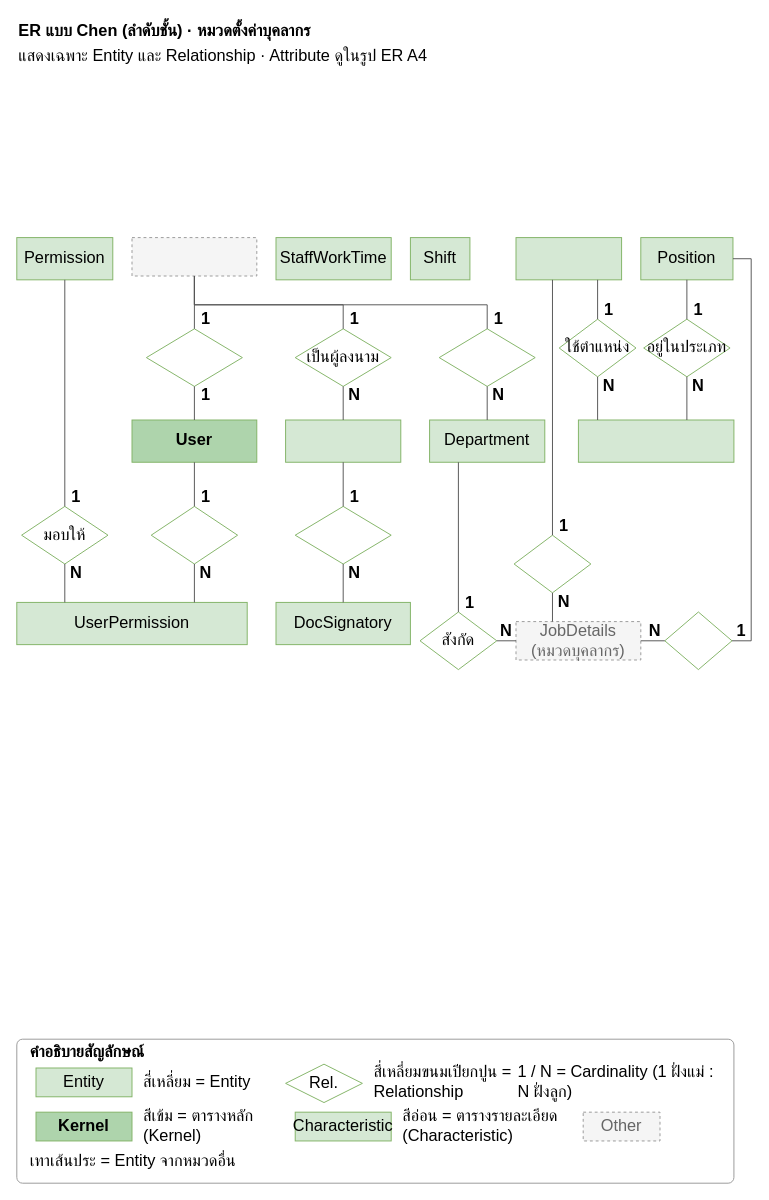
This 769x1200 diagram has some shape labels left out. The shapes that lost their labels are listed below. From the top down, each one's box as (x1, y1, x2, y2) in pixels, then its label:
(131, 237, 257, 276): Employees (หมวดบุคลากร)
(515, 237, 622, 280): StaffType
(145, 328, 242, 386): มีบัญชี
(438, 328, 535, 386): เป็นหัวหน้า
(285, 419, 401, 462): Signatory
(577, 419, 734, 462): PositionStaffType
(150, 505, 238, 564): ได้รับสิทธิ์
(294, 505, 391, 564): ลงนามเอกสาร
(513, 534, 591, 593): ประเภท
(664, 611, 732, 670): ตำแหน่ง
